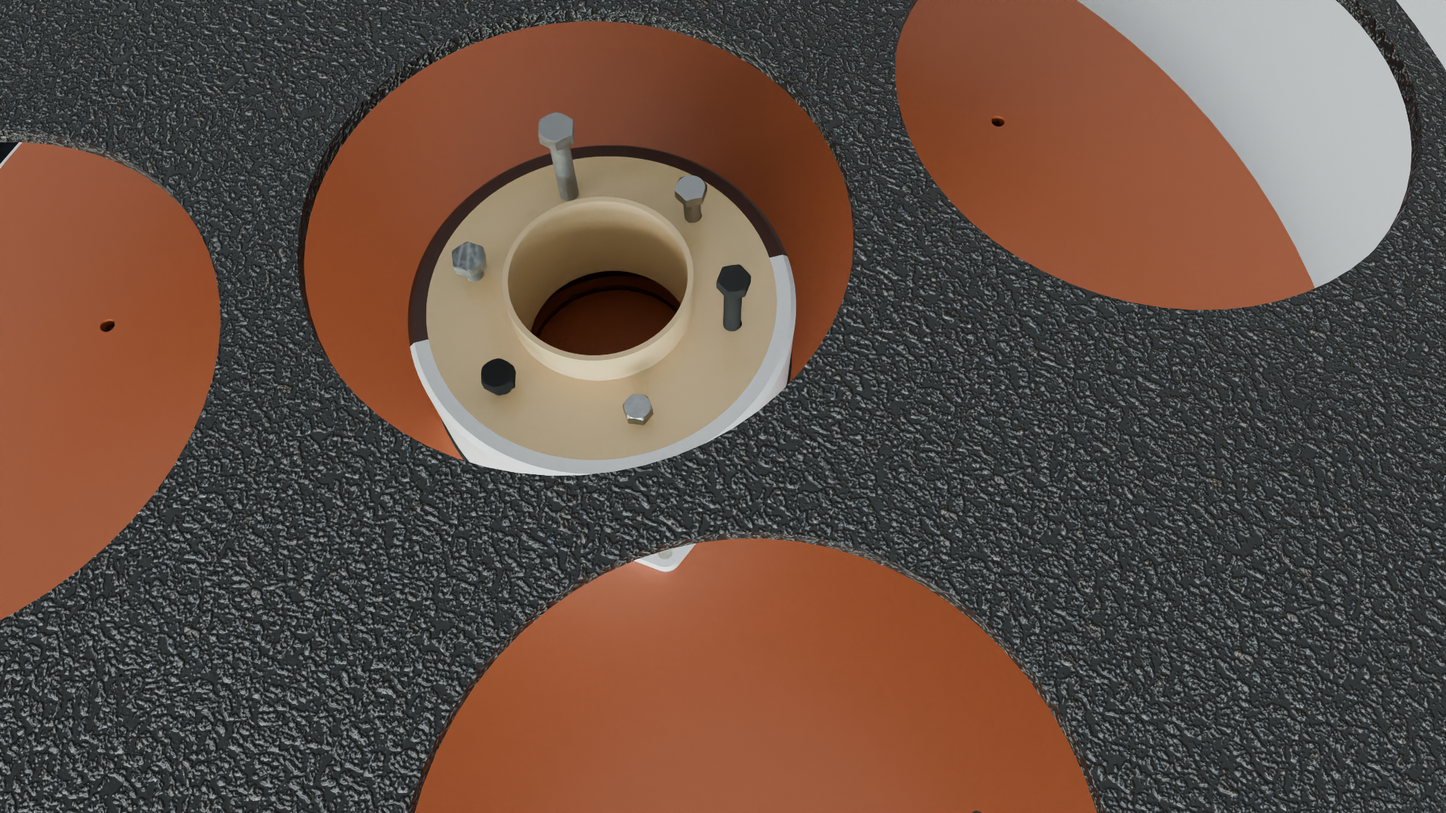bolt: (538, 111, 573, 143), (481, 358, 514, 391), (716, 264, 751, 294), (452, 242, 484, 272), (623, 394, 653, 421), (675, 175, 706, 201)
